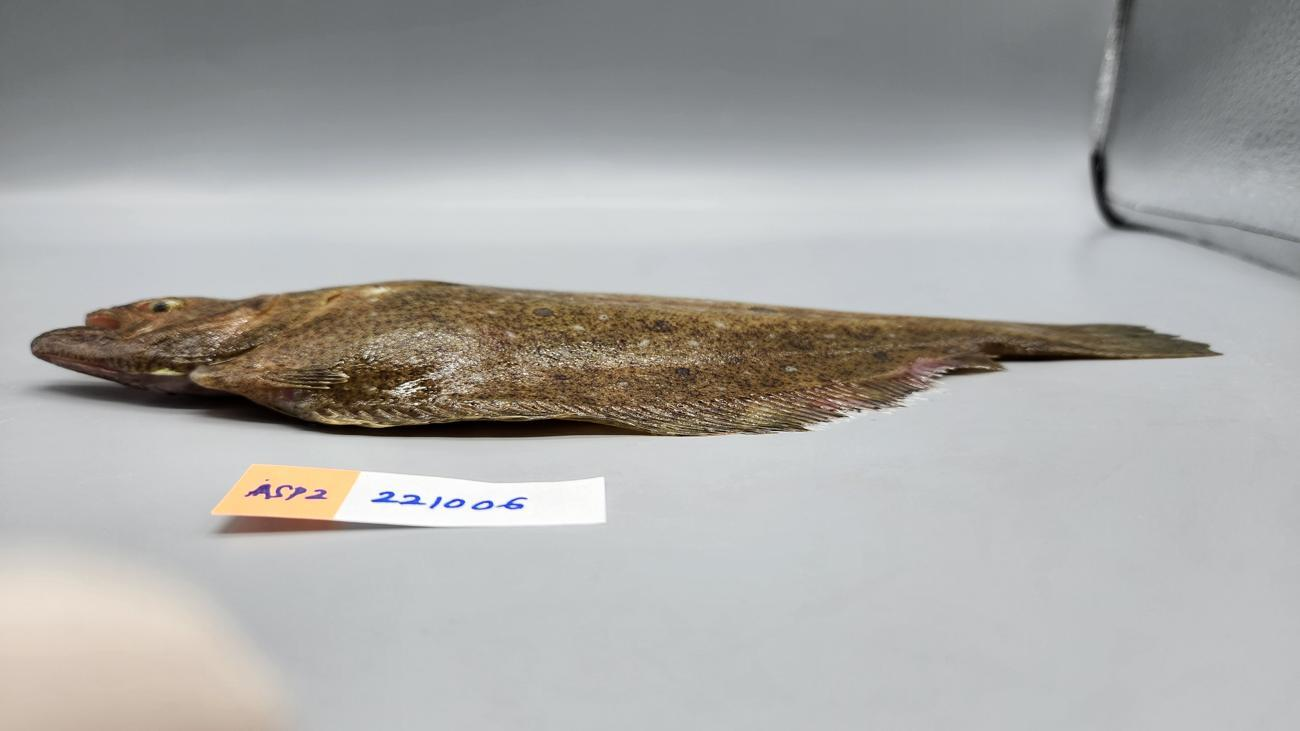SPBEB: (223, 286, 529, 402)
